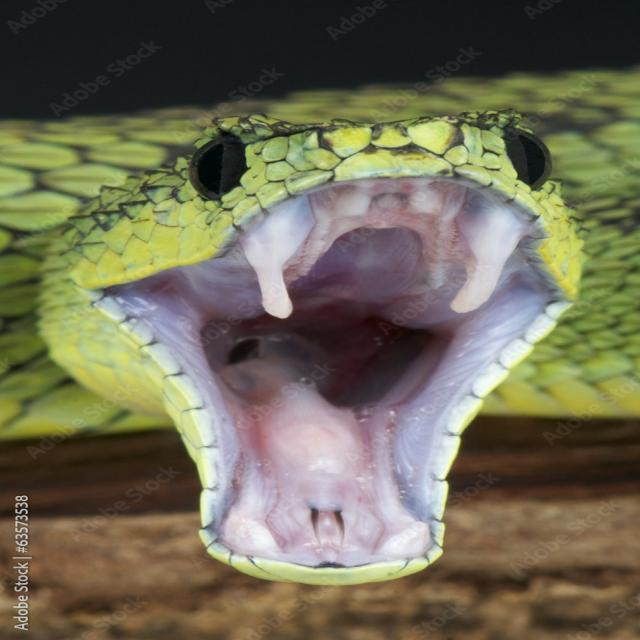Snake: (45, 54, 640, 609)
